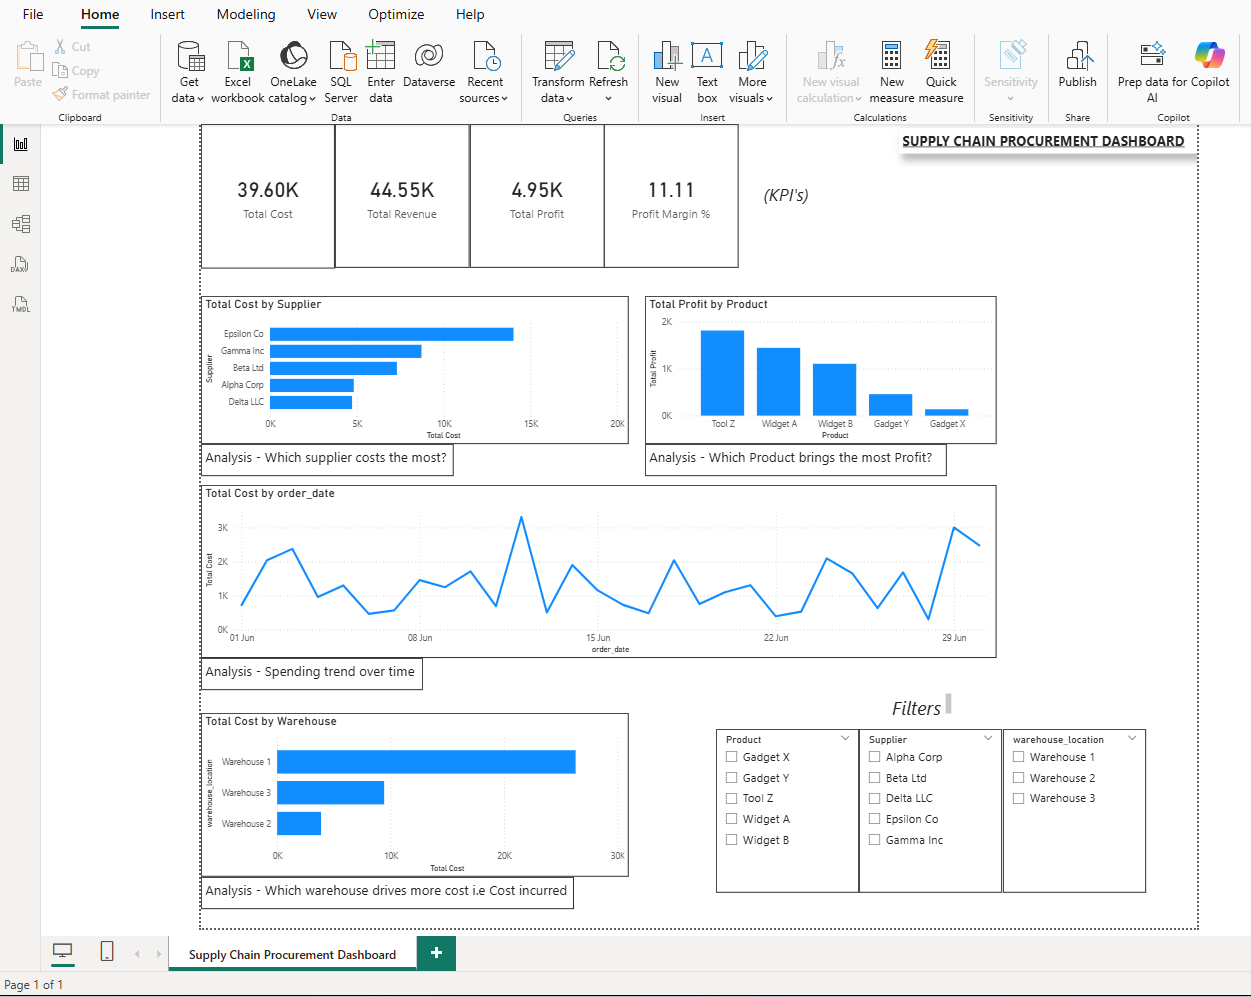

The dashboard page shown, as its layout file describes it:
{"tool":"powerbi","page":{"name":"Page 1","canvas":[1400,1130],"ordinal":0},"visuals":[{"type":"card","fields":{"Values":["supply_chain_final.Total Cost"]},"box":[0,0,188.1,203],"z":0},{"type":"card","fields":{"Values":["supply_chain_final.Total Revenue"]},"box":[188.7,0,188.7,202.3],"z":1000},{"type":"card","fields":{"Values":["supply_chain_final.Total Profit"]},"box":[377.4,0,188.7,202.3],"z":2000},{"type":"card","fields":{"Values":["supply_chain_final.Profit Margin %"]},"box":[566.1,0,188.7,202.3],"z":3000},{"type":"clusteredBarChart","fields":{"Category":["supply_chain_final.Supplier"],"Y":["supply_chain_final.Total Cost"]},"box":[0,241.2,601.1,208.1],"z":4000},{"type":"textbox","box":[0,449.3,355.2,44.8],"z":5000},{"type":"columnChart","fields":{"Category":["supply_chain_final.Product"],"Y":["supply_chain_final.Total Profit"]},"box":[624.4,241.2,494.1,208.1],"z":6000},{"type":"textbox","box":[623.9,449.3,423.9,44.8],"z":7000},{"type":"lineChart","fields":{"Category":["supply_chain_final.order_date"],"Y":["supply_chain_final.Total Cost"]},"box":[0,507.5,1117.9,243.3],"z":8000},{"type":"textbox","box":[0,750.7,311.9,44.8],"z":9000},{"type":"barChart","title":"Total Cost by Warehouse","fields":{"Y":["supply_chain_final.Total Cost"],"Category":["supply_chain_final.warehouse_location"]},"box":[0,828.4,601.5,229.9],"z":9001},{"type":"textbox","box":[0,1058.2,523.9,44.8],"z":9002},{"type":"slicer","fields":{"Values":["supply_chain_final.Product"]},"box":[723.9,850.7,201.5,229.9],"z":9003},{"type":"slicer","fields":{"Values":["supply_chain_final.Supplier"]},"box":[925.4,850.7,201.5,229.9],"z":9004},{"type":"slicer","fields":{"Values":["supply_chain_final.warehouse_location"]},"box":[1126.9,850.7,201.5,229.9],"z":9005},{"type":"textbox","box":[965.7,795.5,94,41.8],"z":9006},{"type":"textbox","box":[785.1,77.6,100,47.8],"z":9007},{"type":"textbox","box":[980.6,6,419.4,35.8],"z":9008}]}

Visuals, with their boxes on the page's 1400x1130 design canvas (x1, y1, x2, y2). These are canvas units, not pixel positions in the 1251x997 screenshot, which may show the page scaled, cropped or inside an application window:
card - supply_chain_final.Total Cost: 0/0/188/203
card - supply_chain_final.Total Revenue: 189/0/377/202
card - supply_chain_final.Total Profit: 377/0/566/202
card - supply_chain_final.Profit Margin %: 566/0/755/202
clusteredBarChart - supply_chain_final.Supplier x supply_chain_final.Total Cost: 0/241/601/449
textbox: 0/449/355/494
columnChart - supply_chain_final.Product x supply_chain_final.Total Profit: 624/241/1118/449
textbox: 624/449/1048/494
lineChart - supply_chain_final.order_date x supply_chain_final.Total Cost: 0/508/1118/751
textbox: 0/751/312/796
"Total Cost by Warehouse" barChart: 0/828/602/1058
textbox: 0/1058/524/1103
slicer - supply_chain_final.Product: 724/851/925/1081
slicer - supply_chain_final.Supplier: 925/851/1127/1081
slicer - supply_chain_final.warehouse_location: 1127/851/1328/1081
textbox: 966/796/1060/837
textbox: 785/78/885/125
textbox: 981/6/1400/42
